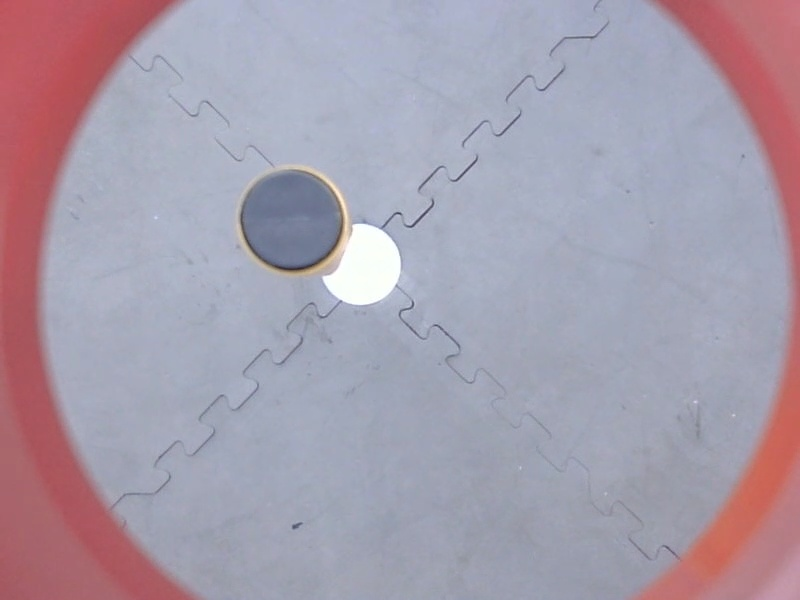tip: (229, 159, 354, 282)
